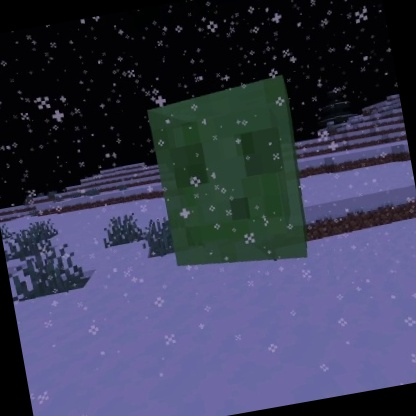slime: (141, 70, 321, 284)
